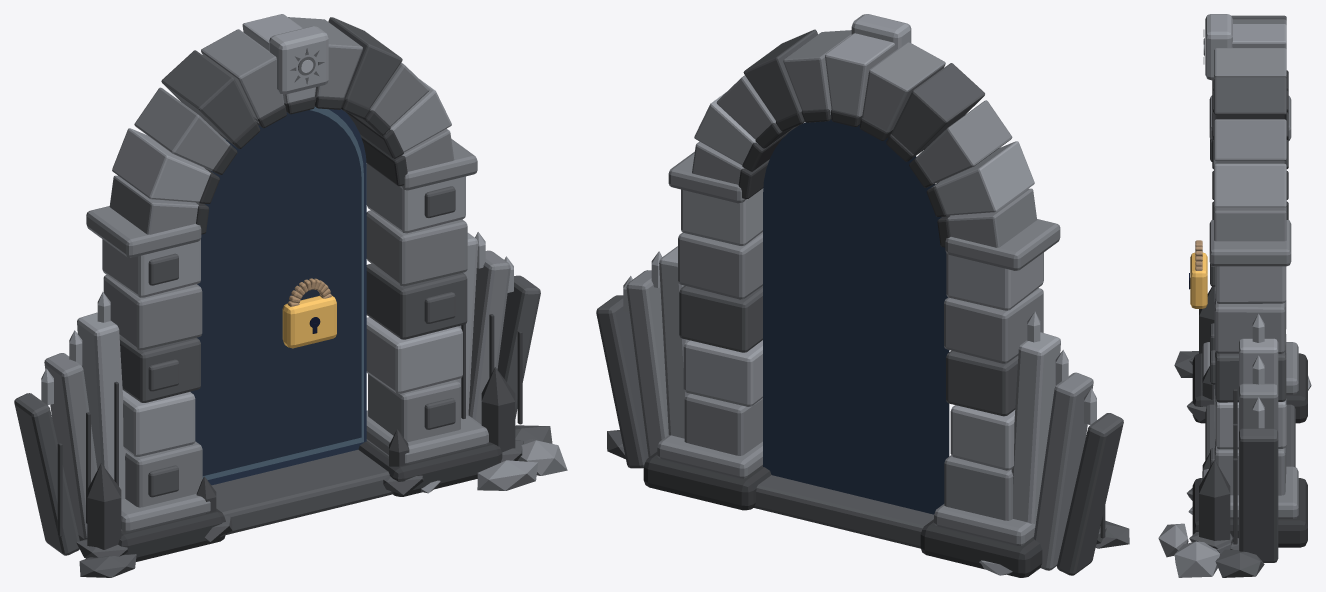
File: portal_desierto.glb
3 views of the same model, side by side, from view 1: azimuth 30°, elevation 25°; view 2: azimuth 150°, elevation 25°; view 3: azimuth 270°, elevation 25° (orthographic). The views are drawn at different scales.
Parts seen in each view (by area): view 1: Piedra gris, Interior apagado, Malla candado, Superficie apagada, Contorno apagado; view 2: Piedra gris, Superficie apagada; view 3: Piedra gris, Malla candado.
Boxes of the visible parts, left/top/right/bottom form: Piedra gris: left=14, top=14, right=567, bottom=577; Interior apagado: left=190, top=110, right=361, bottom=475; Malla candado: left=282, top=278, right=336, bottom=348; Superficie apagada: left=208, top=109, right=366, bottom=485; Contorno apagado: left=202, top=106, right=363, bottom=480; Piedra gris: left=596, top=14, right=1129, bottom=577; Superficie apagada: left=763, top=119, right=949, bottom=514; Piedra gris: left=1158, top=14, right=1311, bottom=577; Malla candado: left=1189, top=240, right=1207, bottom=308.
Bounding box in the file's own units: 8.79 × 7.96 × 2.44.
